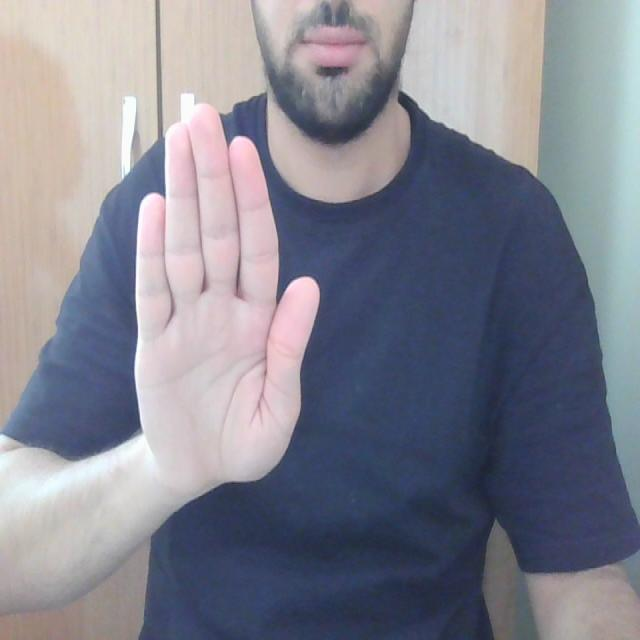Dur: (110, 82, 332, 506)
